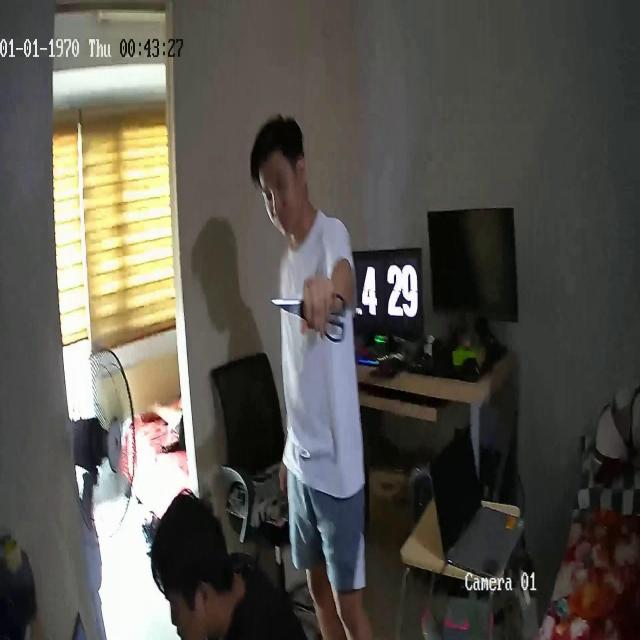scissor: (271, 293, 346, 343)
